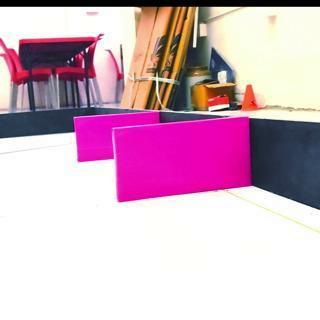xparking: (118, 125, 251, 198), (76, 117, 110, 160)
